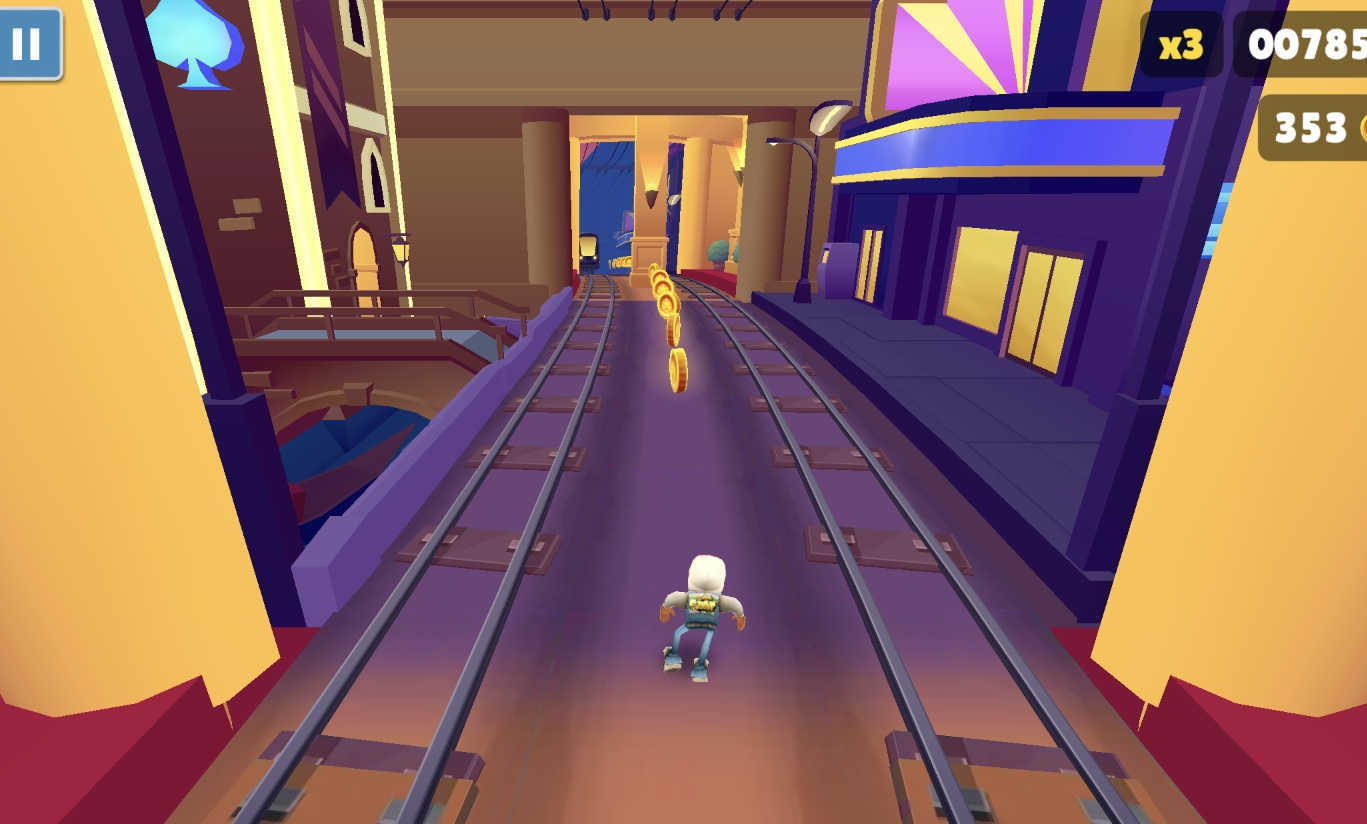pillar: (630, 115, 670, 284)
train: (577, 233, 602, 275)
